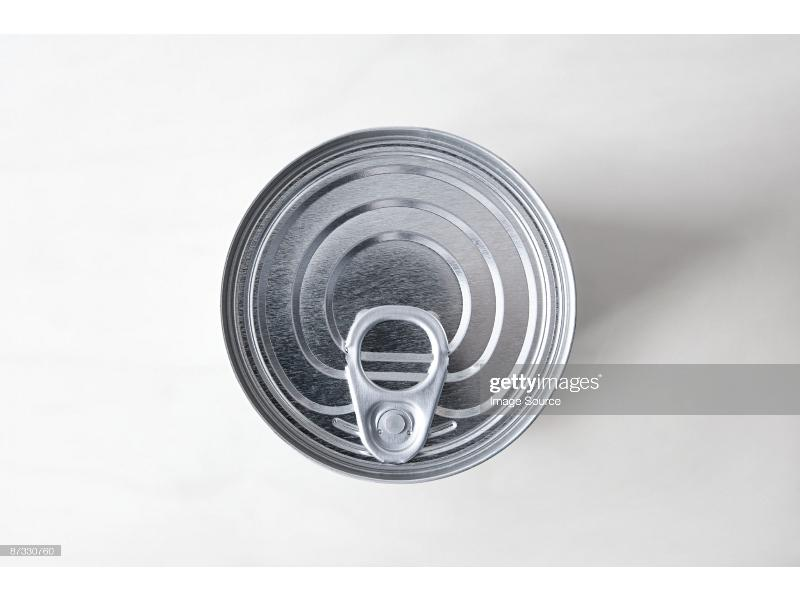can: (214, 122, 578, 483)
